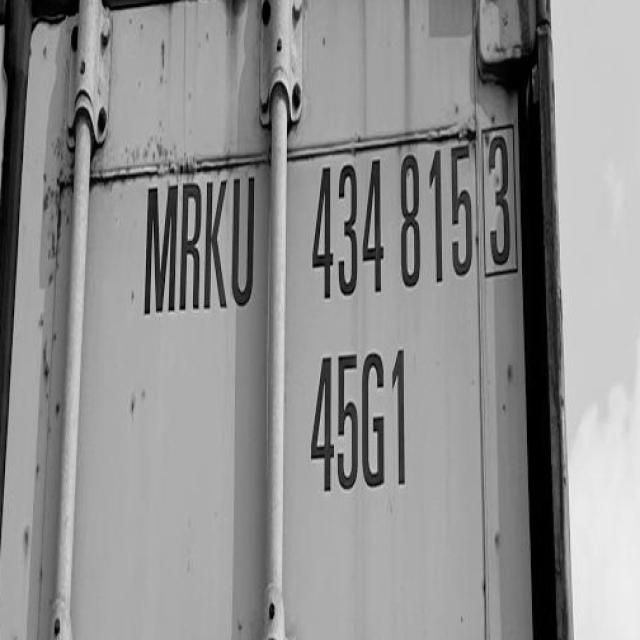dv: (479, 113, 523, 291)
owner: (122, 165, 266, 331)
serial: (304, 130, 480, 317)
size: (300, 337, 426, 512)
